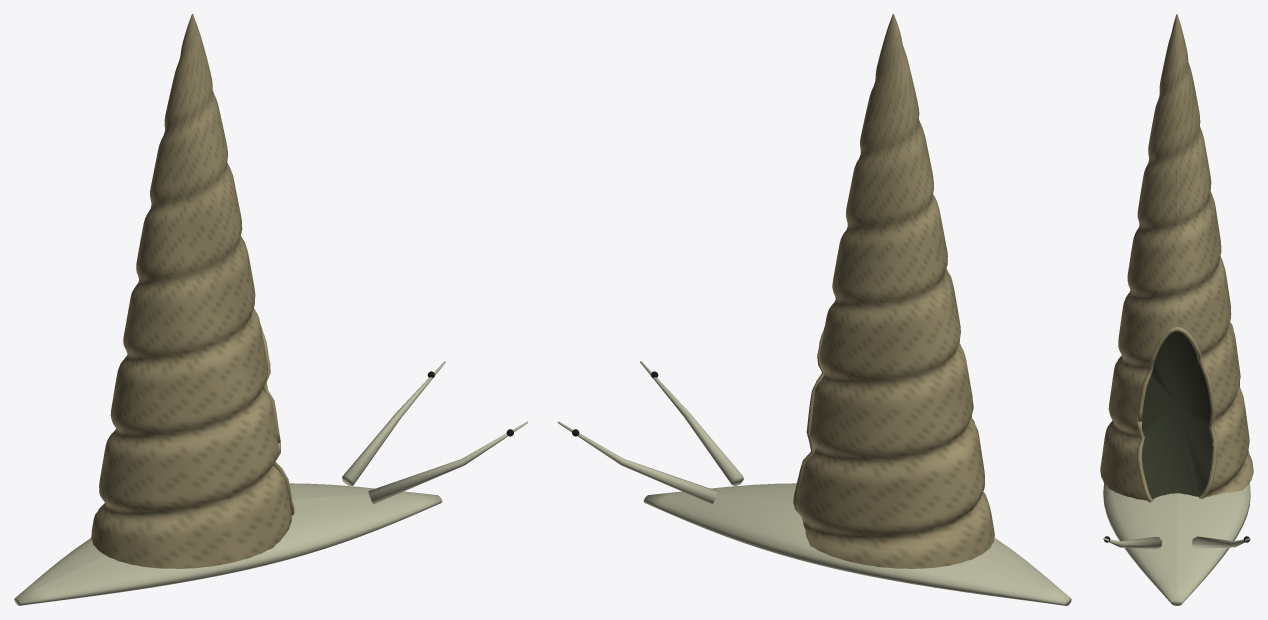
The model's file is trumpet-desktop.glb.
3 renders of one model, left to right at view 1: azimuth 30°, elevation 25°; view 2: azimuth 150°, elevation 25°; view 3: azimuth 270°, elevation 25°, orthographic. The views are drawn at different scales.
Parts seen in each view (by area): view 1: connected-whorled-shell, muscular-foot, cephalic-tentacle, aperture-lip; view 2: connected-whorled-shell, muscular-foot, cephalic-tentacle, aperture-lip; view 3: connected-whorled-shell, muscular-foot, recessed-aperture, aperture-lip, cephalic-tentacle.
Part boxes in pixels (x1,y1,x2,y2): connected-whorled-shell: [91, 14, 291, 568]; muscular-foot: [14, 483, 442, 605]; cephalic-tentacle: [342, 361, 528, 504]; aperture-lip: [261, 326, 294, 515]; connected-whorled-shell: [795, 14, 994, 568]; muscular-foot: [643, 483, 1071, 605]; cephalic-tentacle: [557, 361, 743, 504]; aperture-lip: [793, 327, 824, 514]; connected-whorled-shell: [1100, 14, 1253, 500]; muscular-foot: [1103, 482, 1250, 605]; recessed-aperture: [1142, 331, 1212, 499]; aperture-lip: [1137, 327, 1217, 502]; cephalic-tentacle: [1103, 536, 1250, 549].
Bounding box in the file's own units: 0.5905 × 0.659 × 0.1885.
